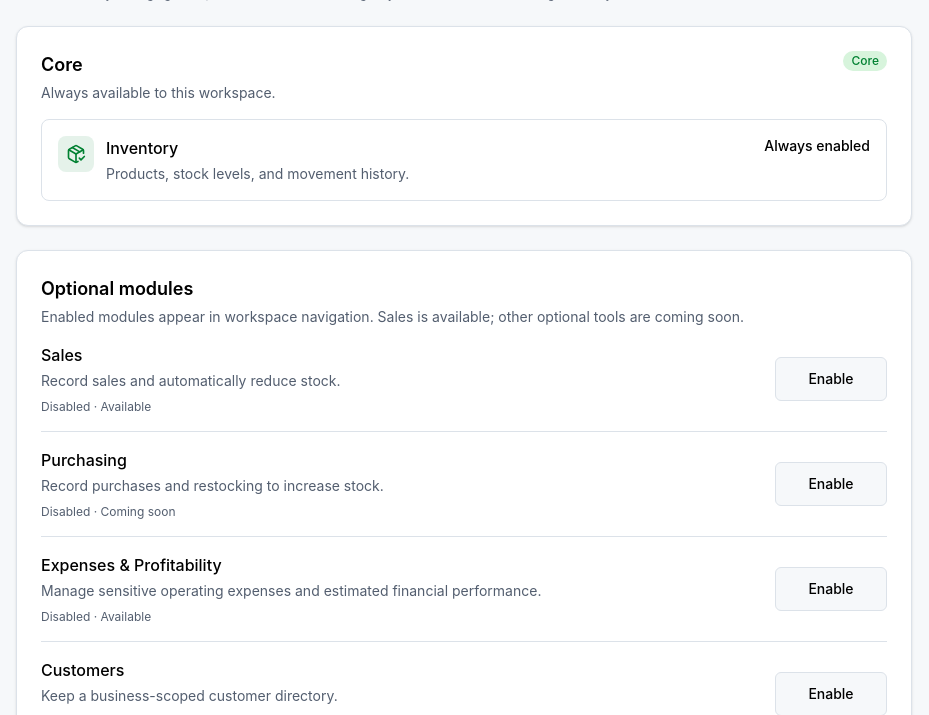
Scenario: ModuleSettingsPage › shows a friendly error and keeps the confirmed module state after failure
(page scrolled)
Click the switch named "Sales module" at (831, 379), box [775,357,887,401]
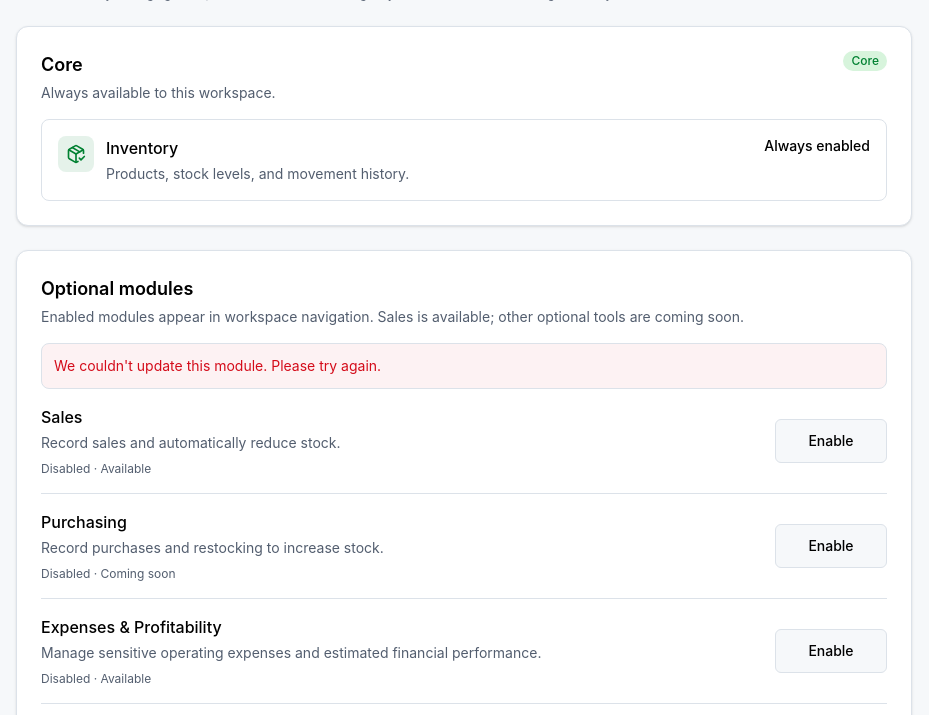
Expected: the message shows "couldn't update this module", [54,357,381,374]
